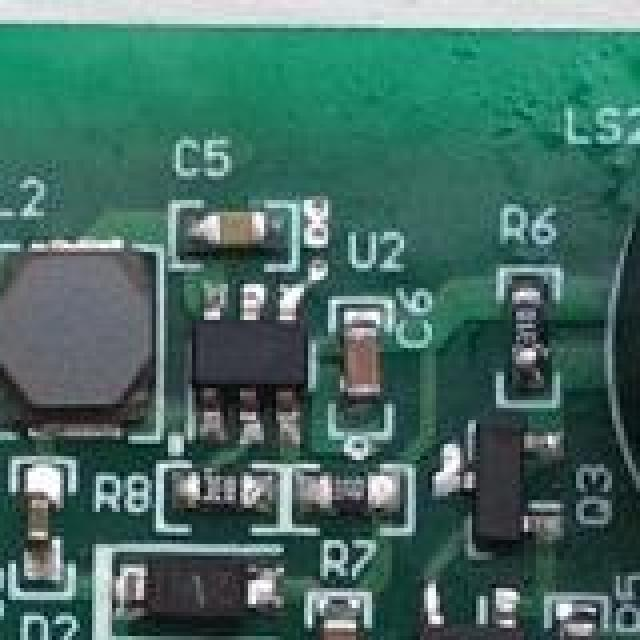IC: (192, 296, 306, 410)
buzzer: (624, 24, 640, 592)
capacitor: (192, 212, 292, 250), (348, 328, 392, 410), (28, 484, 62, 576), (324, 608, 364, 640)
diode: (128, 544, 272, 630)
inductor: (4, 236, 154, 436)
resistor: (496, 292, 544, 396), (296, 472, 392, 520), (164, 472, 274, 512), (564, 608, 588, 640)
transistor: (444, 420, 548, 552), (420, 596, 524, 640), (628, 624, 640, 640)
